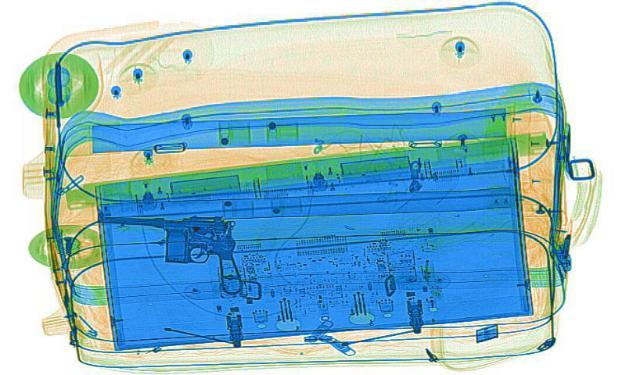Gun: (79, 206, 259, 295)
